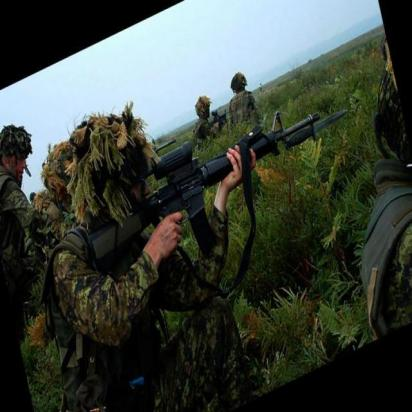Gun: (81, 88, 323, 305)
